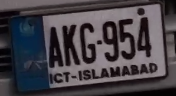AKG954: (3, 2, 173, 96)
